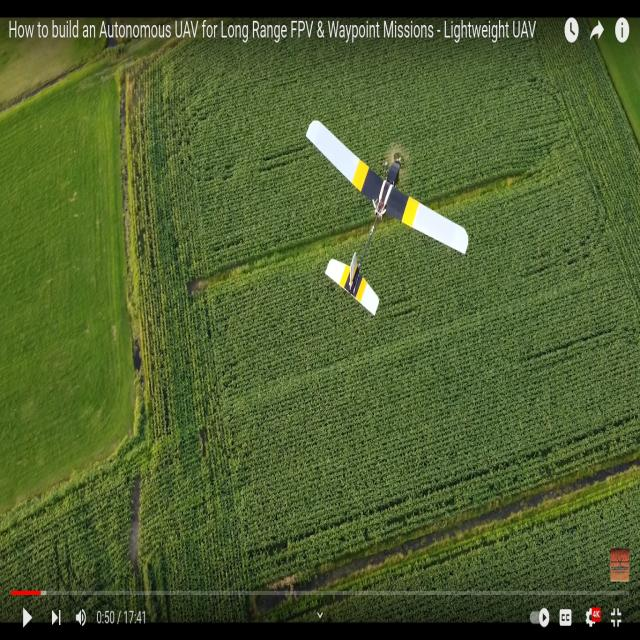drones: (302, 103, 473, 322)
